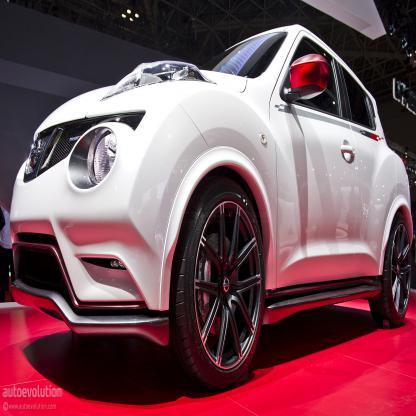Vehicle: (9, 22, 415, 392)
